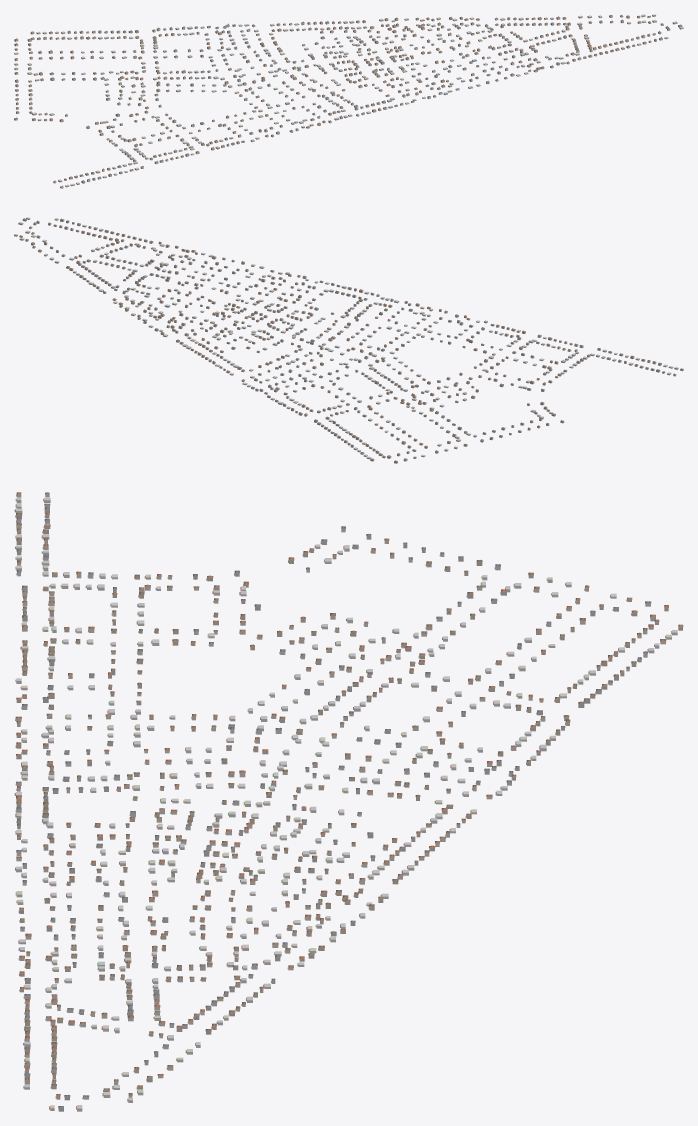
File: buildings.glb
The picture shows the model from 3 angles, top to bottom: view 1: azimuth 30°, elevation 25°; view 2: azimuth 150°, elevation 25°; view 3: azimuth 270°, elevation 25°; orthographic projection. The views are drawn at different scales.
Visible parts, largest first — view 1: world; view 2: world; view 3: world.
Boxes of the visible parts, left/top/right/bottom form: world: left=14, top=14, right=683, bottom=188; world: left=14, top=217, right=683, bottom=463; world: left=14, top=492, right=683, bottom=1111.
Size of the model in its own units: 3426 by 15.47 by 1569.
